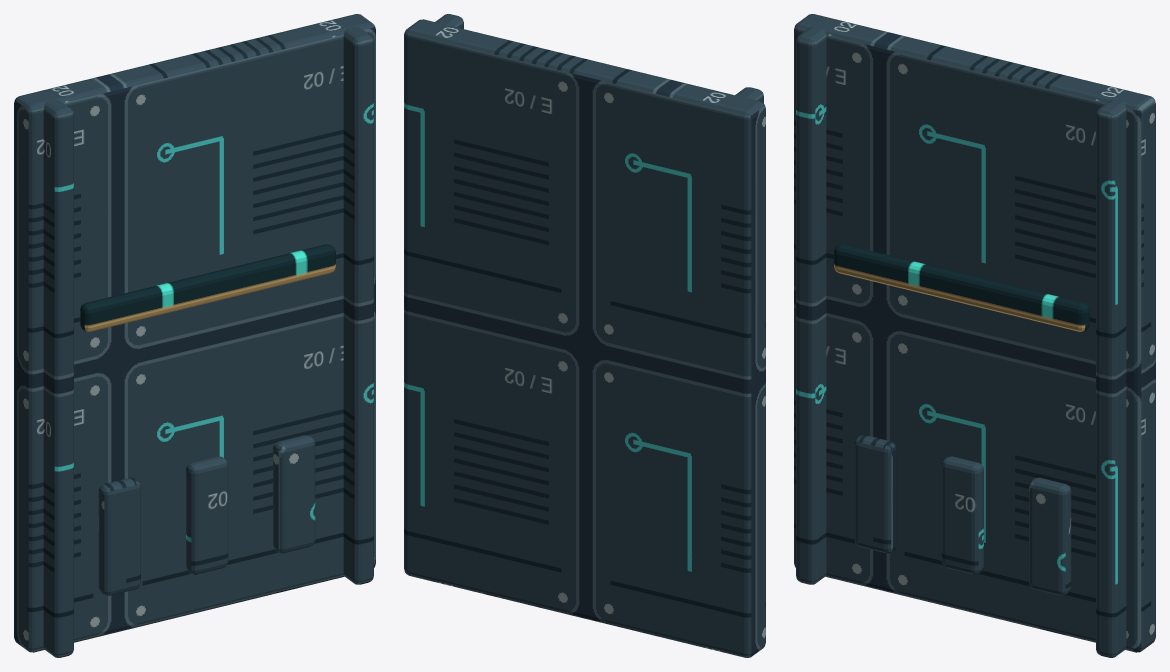
The model's file is ModuloMuro.fbx.
3 renders of one model, left to right at view 1: azimuth 30°, elevation 25°; view 2: azimuth 150°, elevation 25°; view 3: azimuth 330°, elevation 25°, orthographic.
Visible parts, largest first — view 1: ModuloMuro; view 2: ModuloMuro; view 3: ModuloMuro.
Boxes of the visible parts, box(x1,y1,x2,y2) form: ModuloMuro: box(14, 14, 375, 657); ModuloMuro: box(404, 14, 765, 657); ModuloMuro: box(794, 14, 1155, 657).
Size of the model in its own units: 200 by 300 by 30.
